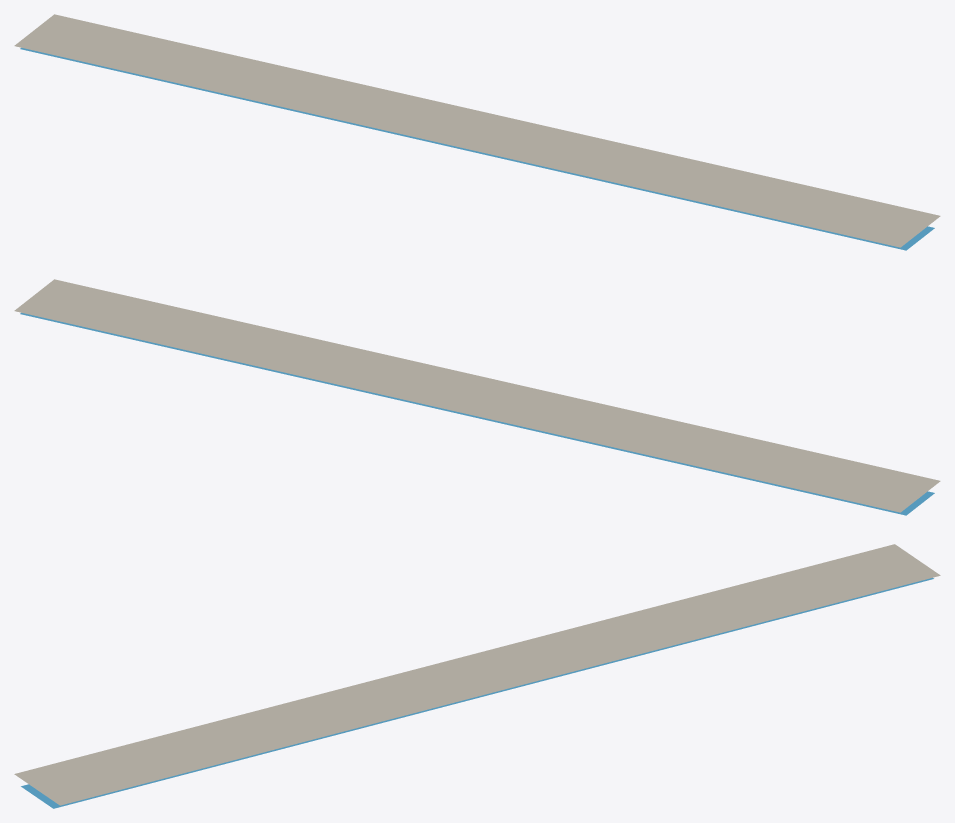
3 renders of one model, top to bottom at view 1: azimuth 30°, elevation 25°; view 2: azimuth 210°, elevation 25°; view 3: azimuth 270°, elevation 25°, orthographic. The views are drawn at different scales.
Visible parts, largest first — view 1: estructura_terreno, estructura_agua; view 2: estructura_terreno, estructura_agua; view 3: estructura_terreno, estructura_agua.
Boxes of the visible parts, x1=… form: estructura_terreno: x1=14, y1=14, x2=940, y2=247; estructura_agua: x1=20, y1=47, x2=934, y2=250; estructura_terreno: x1=14, y1=279, x2=940, y2=512; estructura_agua: x1=20, y1=312, x2=934, y2=515; estructura_terreno: x1=14, y1=544, x2=940, y2=805; estructura_agua: x1=21, y1=578, x2=933, y2=808.
Bounding box in the file's own units: 29.63 × 0.41 × 44.39.
